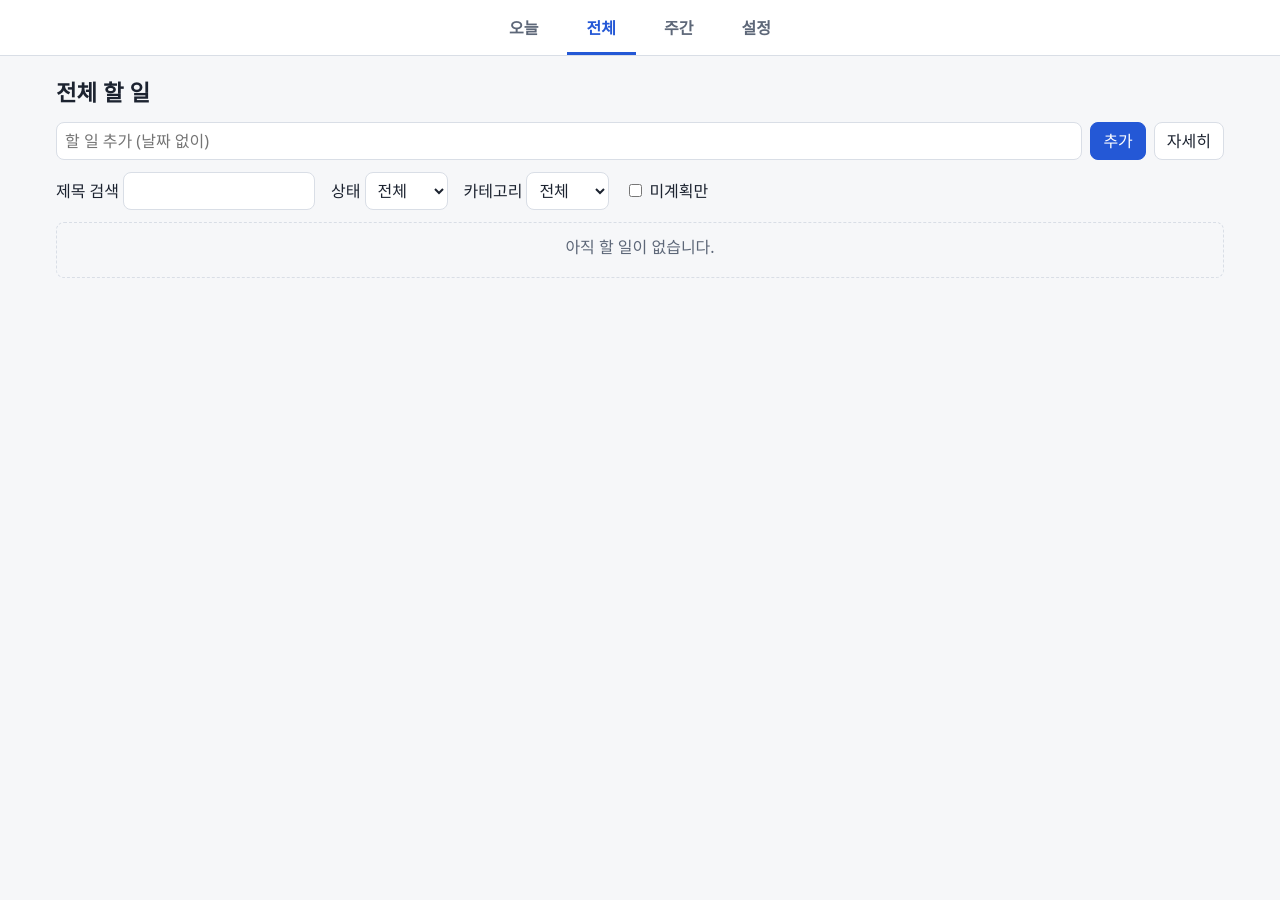
Test: 할 일 폼 › [자세히]로 연 폼: 공백 제목은 오류, 우선순위 기본값은 보통 (AC1, AC25)
Click the button "자세히" at point(1189, 141), box x1=1154 y1=122 x2=1224 y2=160
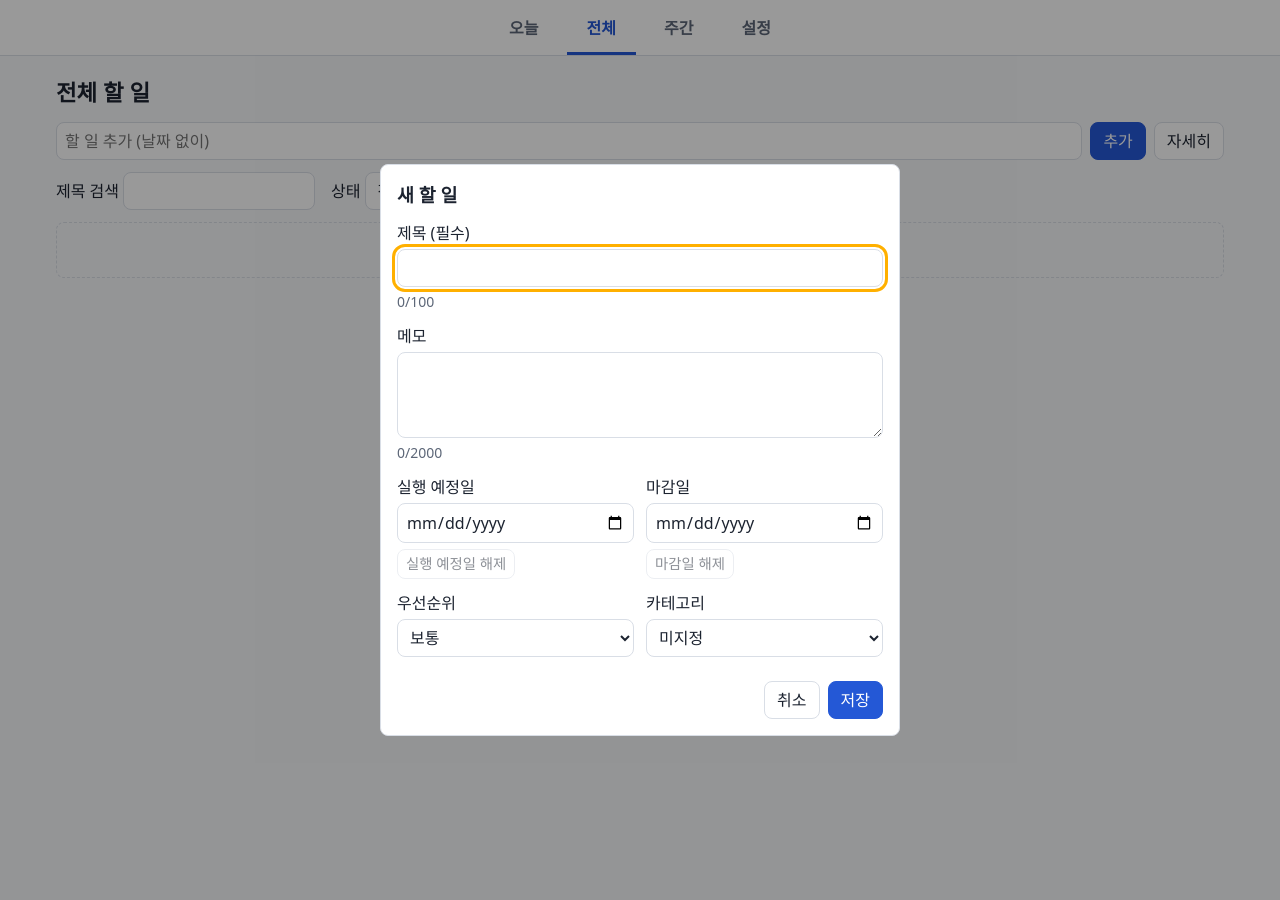
Expected: the dropdown labelled "우선순위" shows "보통", x1=397 y1=619 x2=634 y2=657
Click the button "저장" at point(855, 700), box x1=828 y1=681 x2=883 y2=719
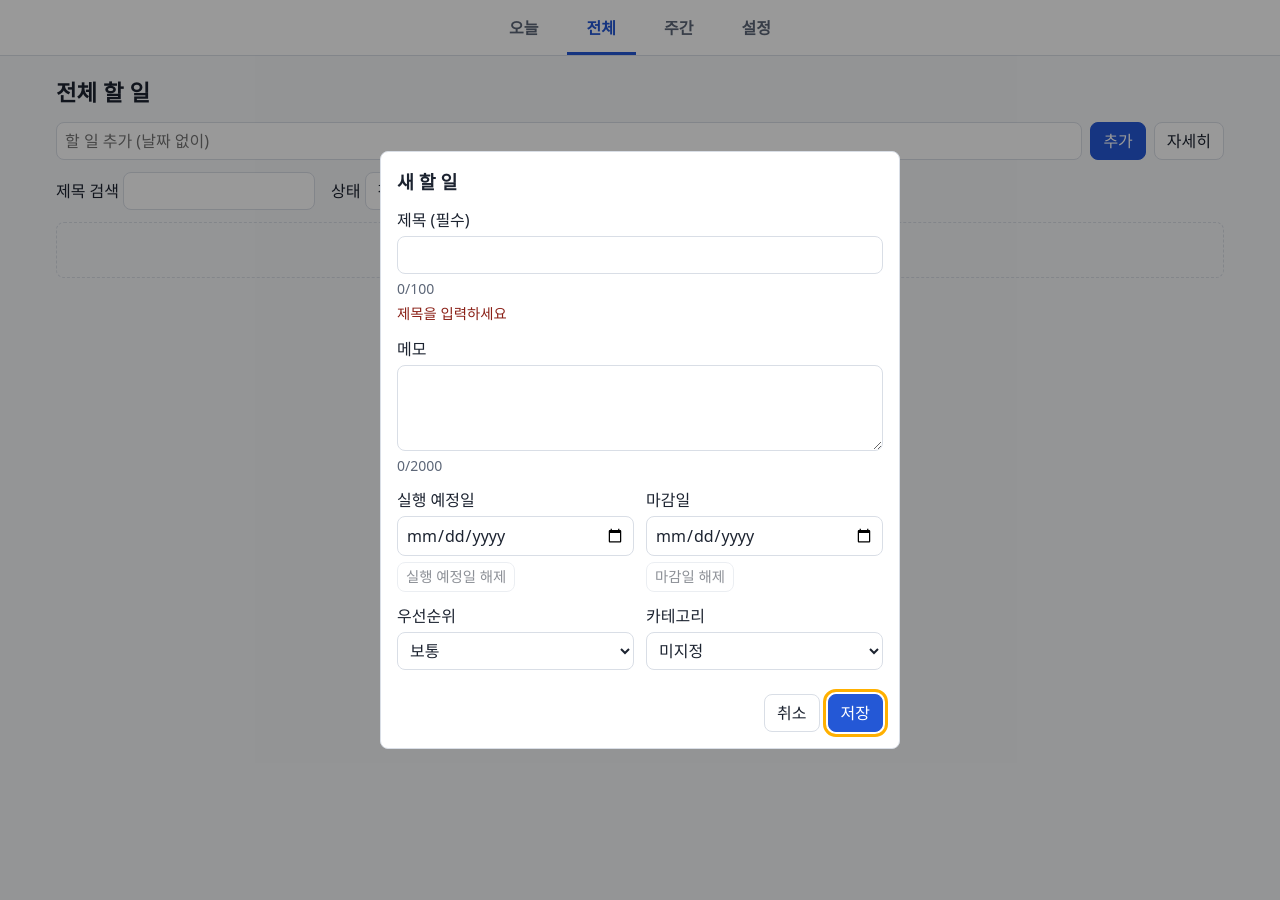
Expected: the message reads "제목을 입력하세요", x1=397 y1=304 x2=507 y2=323
